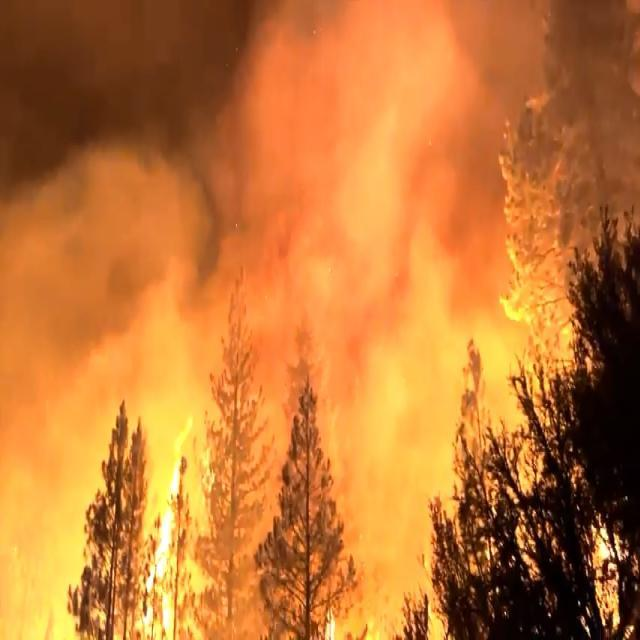Fire: (130, 430, 207, 640)
